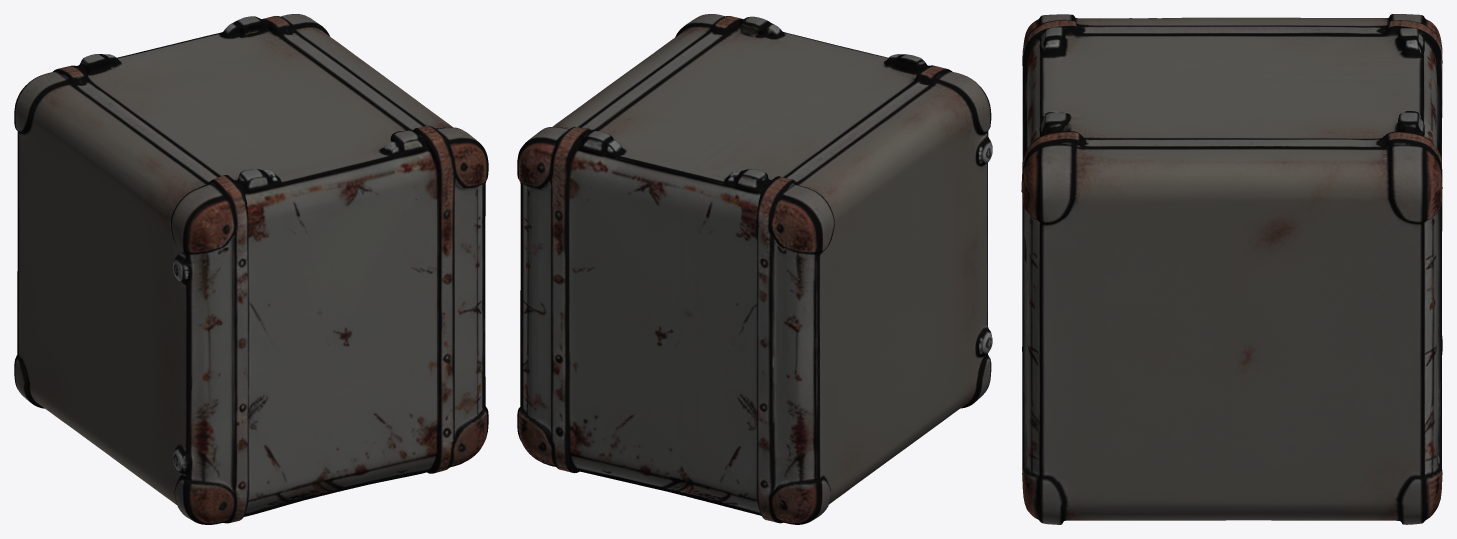
Rendered from catalog-medicine-5-2.glb.
The picture shows the model from 3 angles, left to right: view 1: azimuth 30°, elevation 25°; view 2: azimuth 150°, elevation 25°; view 3: azimuth 270°, elevation 25°; orthographic projection. The views are drawn at different scales.
Parts seen in each view (by area): view 1: tmpgjxisal_.ply; view 2: tmpgjxisal_.ply; view 3: tmpgjxisal_.ply.
Part boxes in pixels (x1,y1,x2,y2): tmpgjxisal_.ply: [14, 14, 488, 524]; tmpgjxisal_.ply: [517, 14, 992, 524]; tmpgjxisal_.ply: [1021, 14, 1442, 524].
Size of the model in its own units: 1.85 by 1.97 by 1.95.
Materials: 1 (1 with a texture image).
